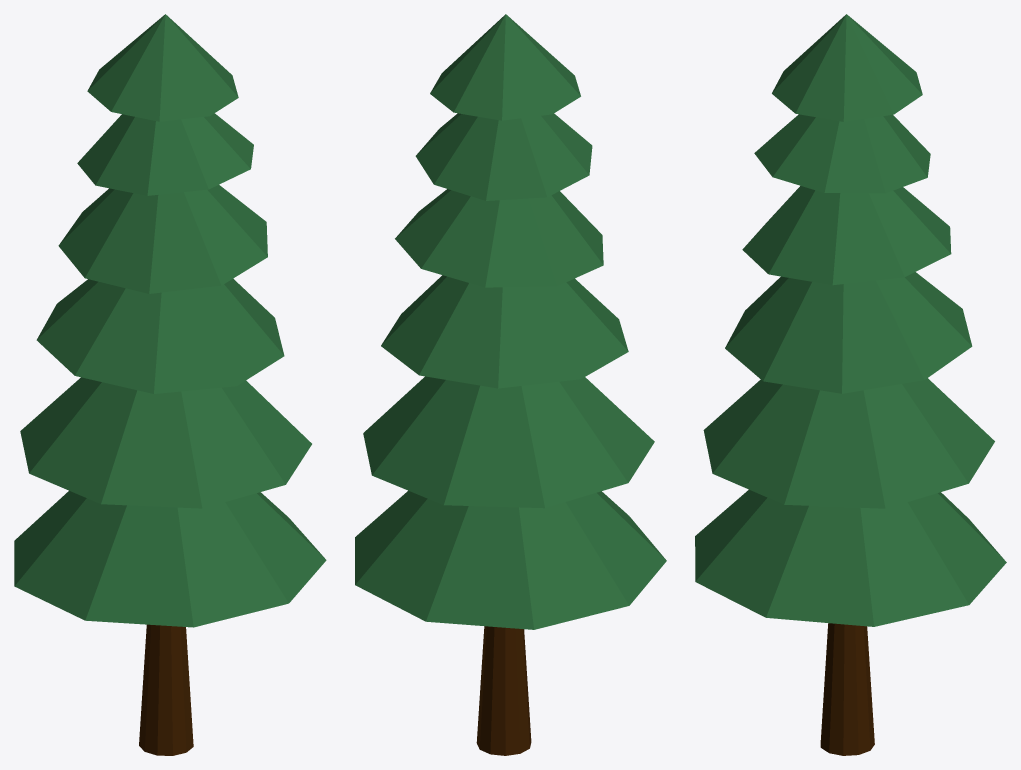
The model's file is spruce_sapling_variant1.fbx.
The picture shows the model from 3 angles, left to right: view 1: azimuth 30°, elevation 25°; view 2: azimuth 150°, elevation 25°; view 3: azimuth 270°, elevation 25°; orthographic projection.
Visible parts, largest first — view 1: Cone.008, Cone.009, Cone.010, Cone.011, Cone.012, Cone.013, Cylinder.001; view 2: Cone.008, Cone.009, Cone.010, Cone.011, Cone.012, Cone.013, Cylinder.001; view 3: Cone.008, Cone.009, Cone.010, Cone.011, Cone.012, Cone.013, Cylinder.001.
Part boxes in pixels (x1=…): Cone.008: x1=14, y1=490, x2=326, y2=627; Cone.009: x1=20, y1=377, x2=311, y2=508; Cone.010: x1=36, y1=278, x2=284, y2=393; Cone.011: x1=58, y1=185, x2=267, y2=293; Cone.012: x1=77, y1=113, x2=253, y2=195; Cone.013: x1=87, y1=14, x2=238, y2=121; Cylinder.001: x1=139, y1=624, x2=193, y2=755; Cone.008: x1=355, y1=490, x2=666, y2=629; Cone.009: x1=363, y1=376, x2=654, y2=508; Cone.010: x1=381, y1=275, x2=628, y2=388; Cone.011: x1=395, y1=189, x2=603, y2=287; Cone.012: x1=415, y1=113, x2=592, y2=200; Cone.013: x1=430, y1=14, x2=580, y2=120; Cylinder.001: x1=476, y1=626, x2=531, y2=755; Cone.008: x1=695, y1=489, x2=1006, y2=626; Cone.009: x1=703, y1=378, x2=994, y2=508; Cone.010: x1=725, y1=272, x2=972, y2=393; Cone.011: x1=742, y1=186, x2=951, y2=285; Cone.012: x1=754, y1=114, x2=930, y2=193; Cone.013: x1=772, y1=14, x2=922, y2=121; Cylinder.001: x1=820, y1=623, x2=874, y2=755.
Bounding box in the file's own units: 169 × 431 × 167.
